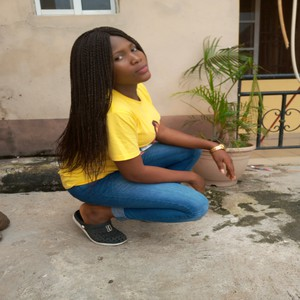Fulokoja_female_student: (70, 23, 176, 221)
